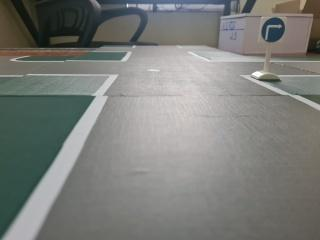right: (259, 12, 290, 48)
